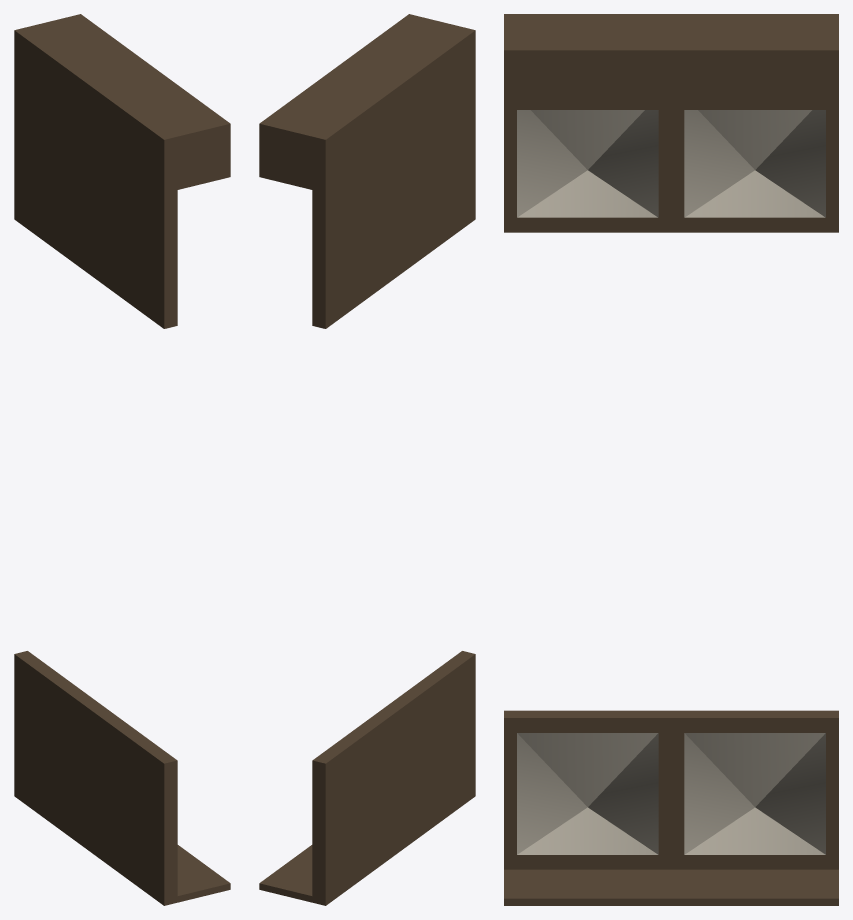
The model's file is SM_receptionCounterDeco_01.glb.
The picture shows the model from 3 angles, left to right: view 1: azimuth 30°, elevation 25°; view 2: azimuth 150°, elevation 25°; view 3: azimuth 270°, elevation 25°; orthographic projection. The views are drawn at different scales.
Parts seen in each view (by area): view 1: SM_receptionCounterDeco_01; view 2: SM_receptionCounterDeco_01; view 3: SM_receptionCounterDeco_01.
Part boxes in pixels (box(x1,y1,x2,y2)): SM_receptionCounterDeco_01: box(14, 14, 230, 905); SM_receptionCounterDeco_01: box(259, 14, 475, 905); SM_receptionCounterDeco_01: box(504, 14, 838, 905).
Size of the model in its own units: 0.2562 by 2.82 by 1.
1 material, 1 textured.
